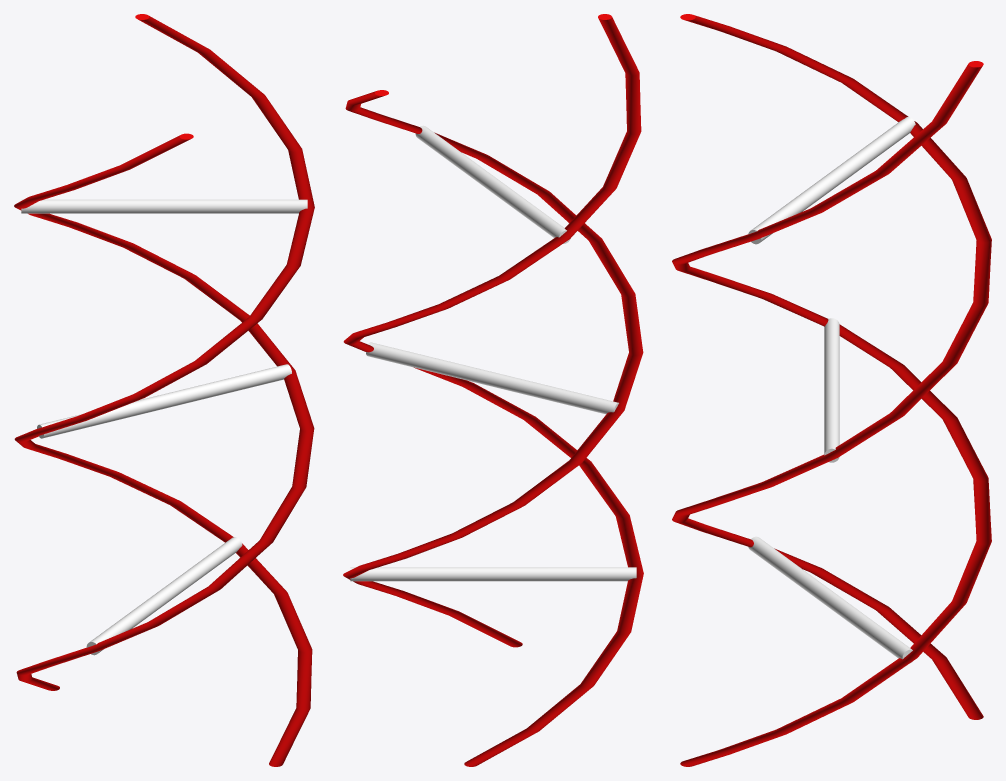
Rendered from dna-attempt-2.dae.
3 renders of one model, left to right at view 1: azimuth 30°, elevation 25°; view 2: azimuth 150°, elevation 25°; view 3: azimuth 270°, elevation 25°, orthographic. The views are drawn at different scales.
Visible parts, largest first — view 1: RNAs, Guanine, Thymine, Adenine; view 2: RNAs, Adenine, Thymine, Guanine; view 3: RNAs, Adenine, Guanine, Thymine.
Boxes of the visible parts, box(x1,y1,x2,y2) form: RNAs: box(14, 14, 314, 766); Guanine: box(21, 199, 307, 213); Thymine: box(37, 364, 291, 438); Adenine: box(86, 537, 242, 655); RNAs: box(343, 14, 643, 766); Adenine: box(350, 567, 636, 581); Thymine: box(366, 342, 618, 414); Guanine: box(415, 125, 570, 243); RNAs: box(672, 14, 991, 766); Adenine: box(748, 536, 912, 663); Guanine: box(748, 117, 915, 244); Thymine: box(824, 318, 839, 462).
Bounding box in the file's own units: 4.2 × 10 × 4.14.
